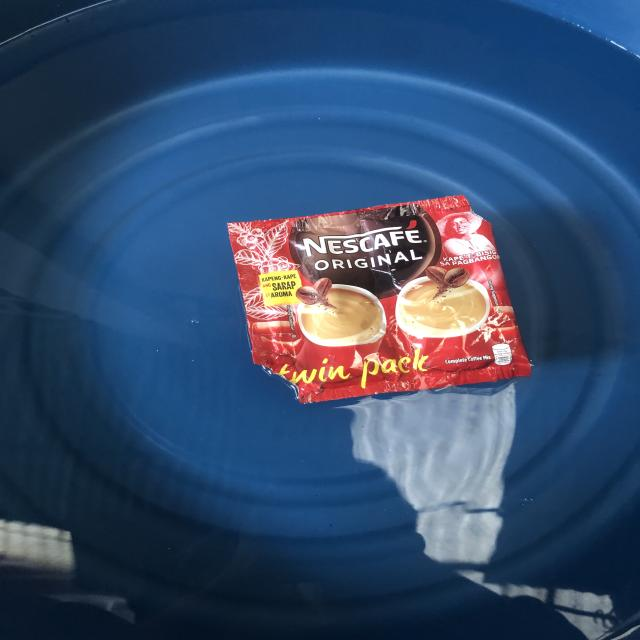Plastic Wrapper: (229, 196, 529, 402)
